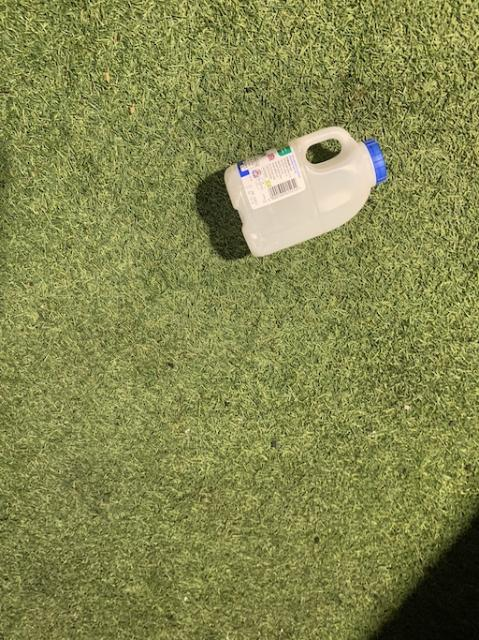plastic: (224, 126, 386, 254)
